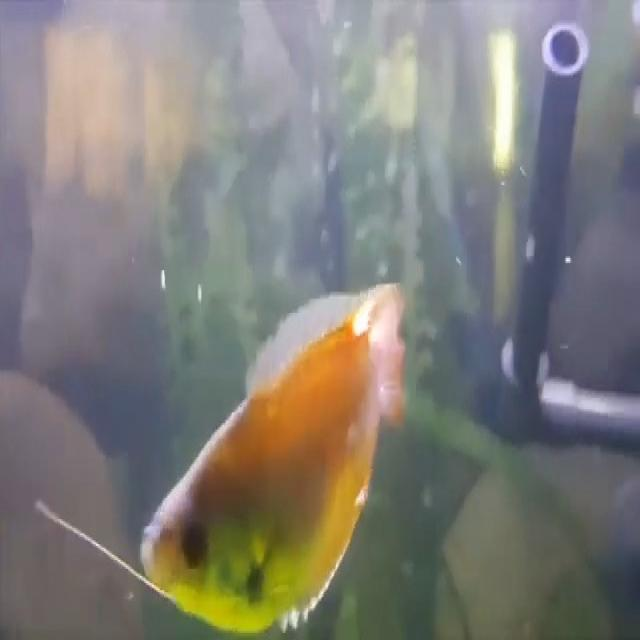fish: (138, 280, 424, 638)
